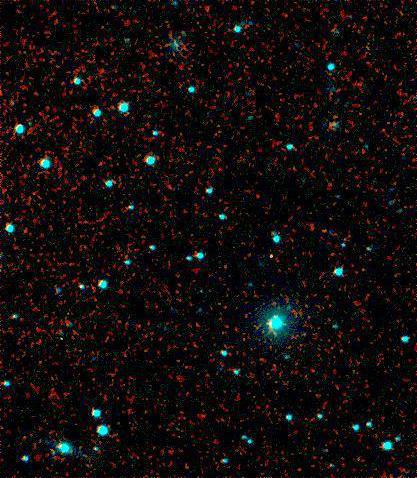star: (254, 241, 284, 271)
